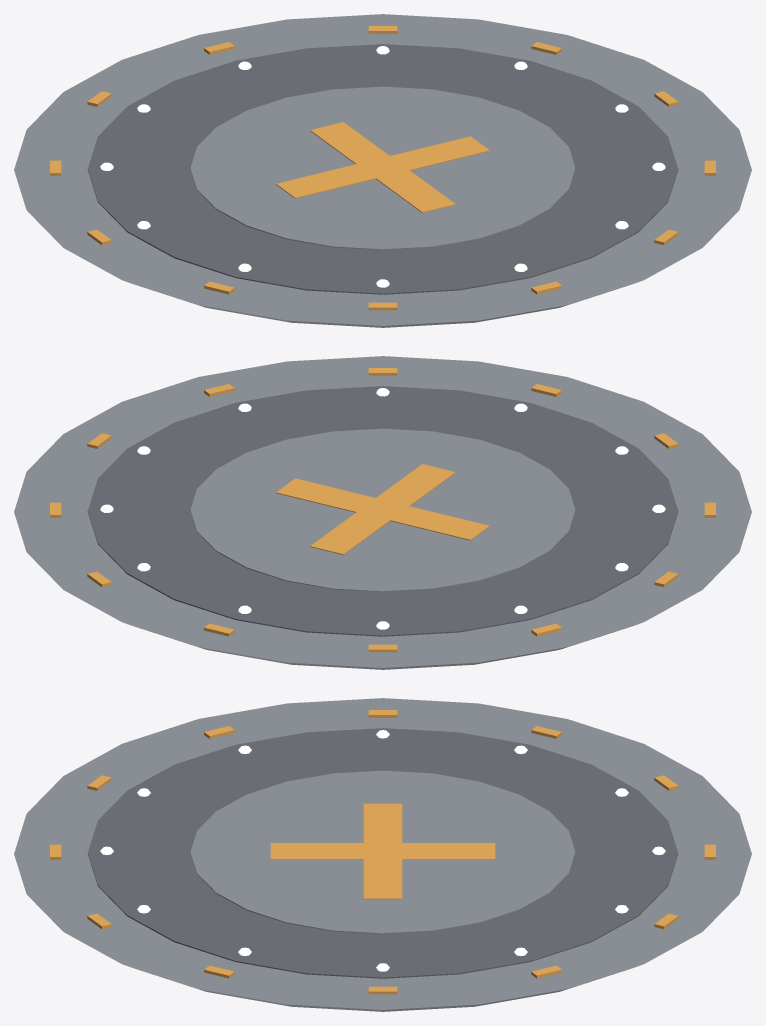
File: landing_pad.glb
The picture shows the model from 3 angles, top to bottom: view 1: azimuth 30°, elevation 25°; view 2: azimuth 150°, elevation 25°; view 3: azimuth 270°, elevation 25°; orthographic projection.
Parts seen in each view (by area): view 1: landing_pad_m; view 2: landing_pad_m; view 3: landing_pad_m.
Boxes of the visible parts, left/top/right/bottom form: landing_pad_m: left=14, top=14, right=751, bottom=327; landing_pad_m: left=14, top=356, right=751, bottom=669; landing_pad_m: left=14, top=698, right=751, bottom=1011.
Bounding box in the file's own units: 23 × 0.52 × 23.
